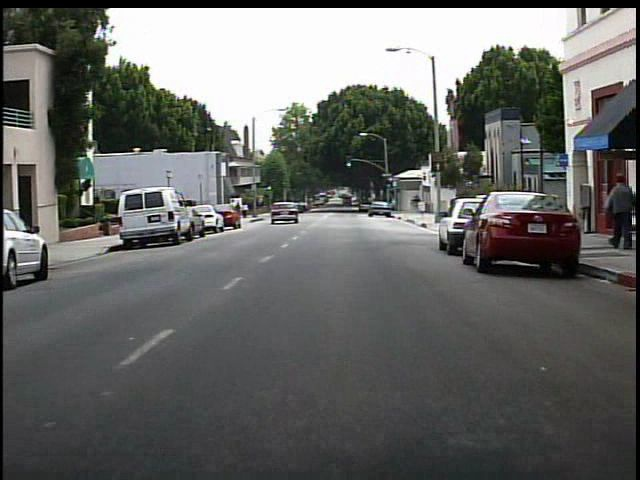person: (597, 174, 636, 254), (241, 199, 253, 221)
